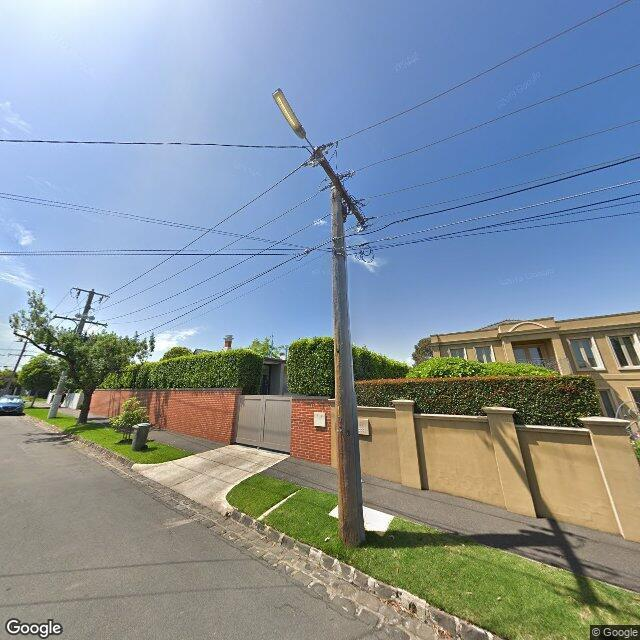HV-transmission: (70, 285, 111, 303)
crossarm: (304, 140, 378, 232), (53, 314, 109, 328), (70, 289, 112, 299)
streetlight: (271, 87, 317, 154)
timber-pole: (330, 180, 366, 545), (48, 291, 96, 419)
